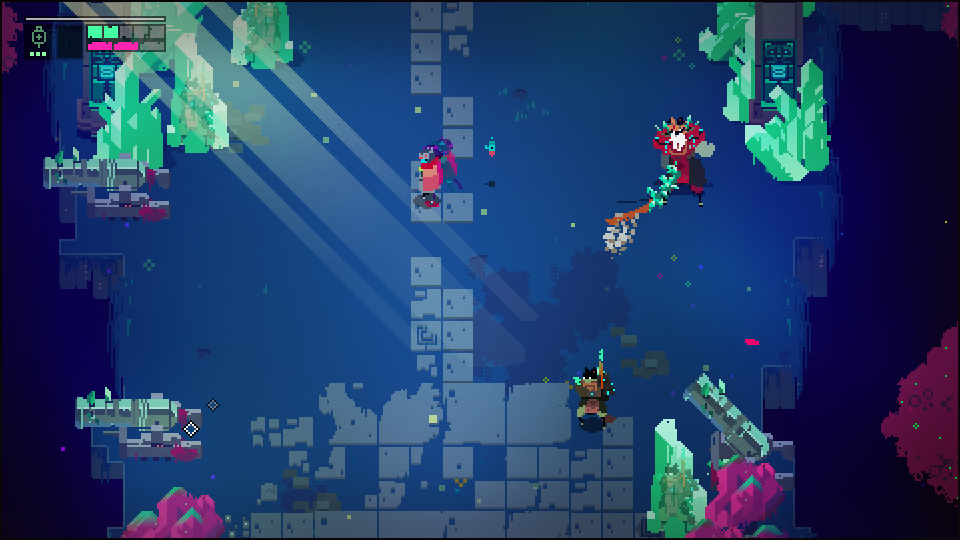hanged_man: (649, 116, 718, 211)
player: (415, 148, 442, 204)
